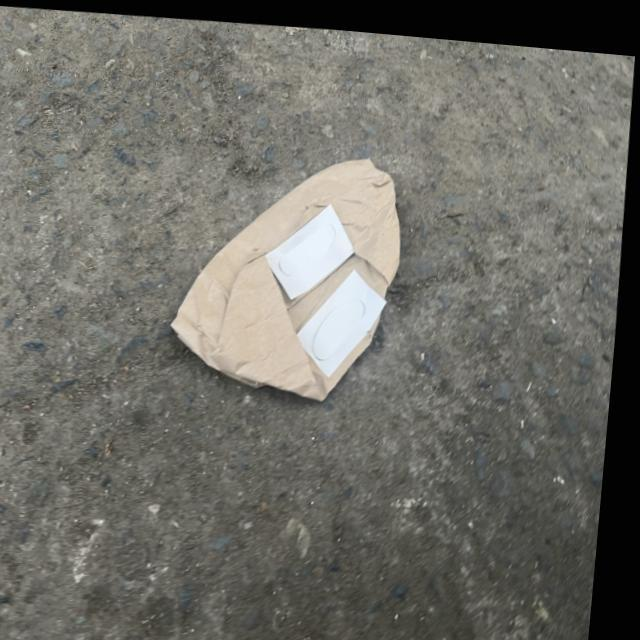Paper_Bag: (170, 136, 412, 400)
